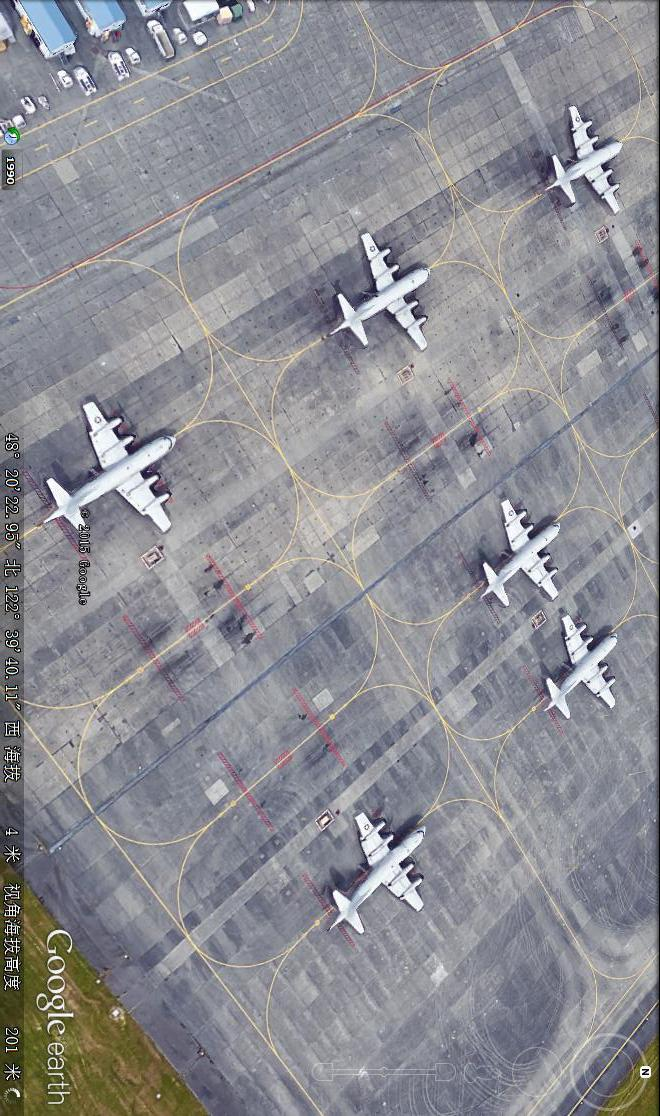P-3C: (35, 390, 181, 544), (331, 227, 434, 357), (327, 809, 434, 933), (474, 497, 570, 609), (545, 97, 627, 221), (542, 609, 627, 722)
